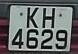2: (39, 29, 56, 52)
4: (11, 27, 26, 52)
6: (25, 29, 41, 51)
9: (55, 28, 69, 51)
H: (41, 6, 59, 30)
K: (26, 6, 41, 31)
